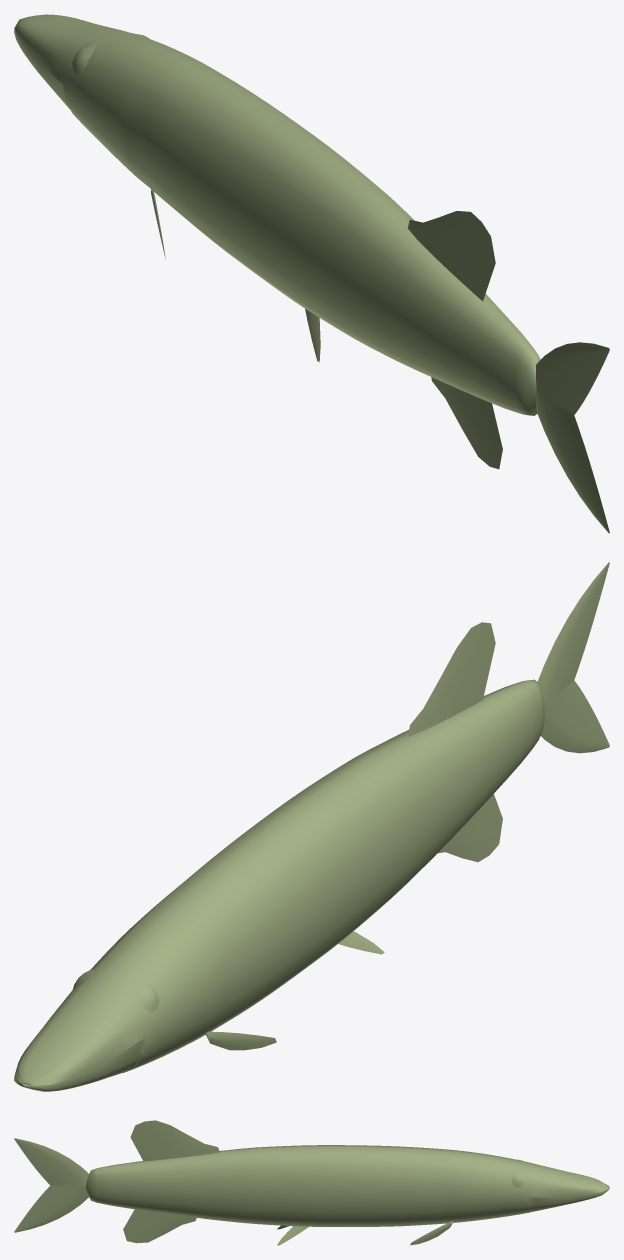
The model's file is northern_pike_lo.glb.
3 views of the same model, one above another, from view 1: azimuth 30°, elevation 25°; view 2: azimuth 150°, elevation 25°; view 3: azimuth 270°, elevation 25° (orthographic). The views are drawn at different scales.
Parts seen in each view (by area): view 1: northern_pike_lo; view 2: northern_pike_lo; view 3: northern_pike_lo.
Boxes of the visible parts, x1,y1,x2,y2 form: northern_pike_lo: [14, 14, 609, 533]; northern_pike_lo: [14, 562, 609, 1091]; northern_pike_lo: [14, 1120, 609, 1245].
Size of the model in its own units: 0.1092 by 0.2272 by 0.999.
